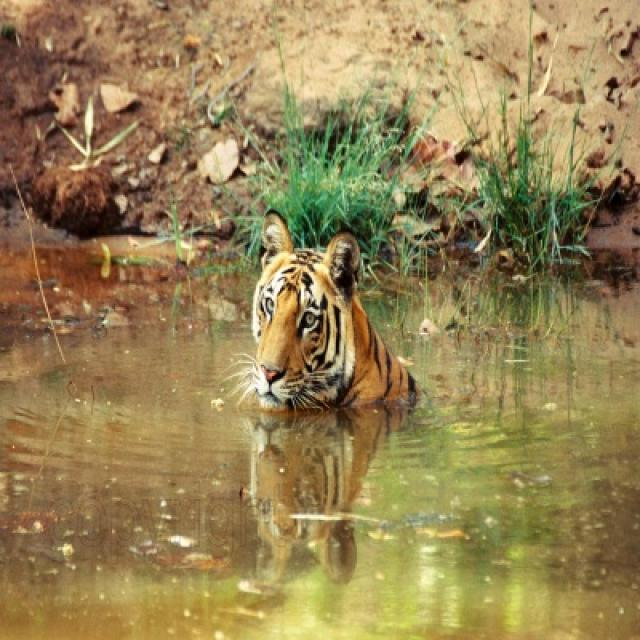Tiger: (256, 212, 414, 409)
